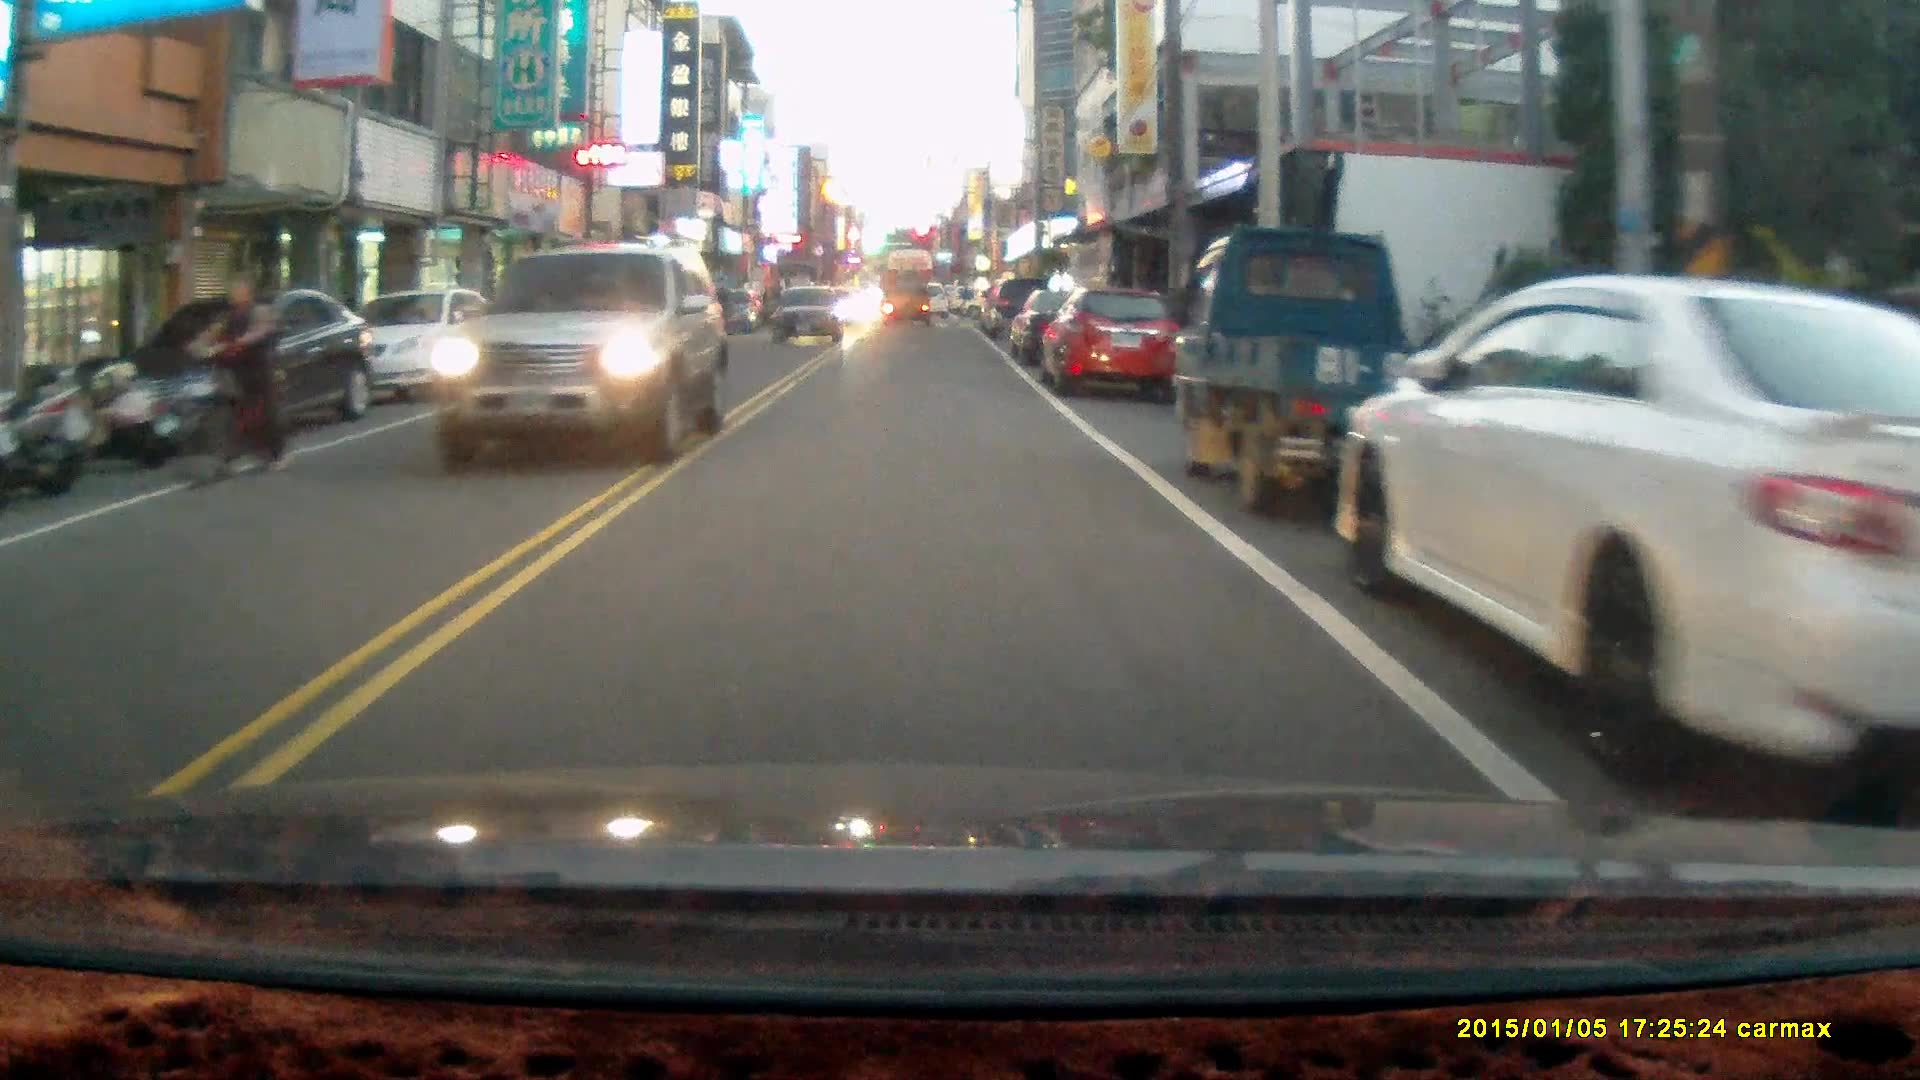rider: (172, 265, 288, 486)
vehicle: (1334, 273, 1920, 794), (1175, 224, 1510, 522), (424, 246, 730, 464), (114, 289, 372, 439), (298, 287, 490, 405), (1045, 287, 1182, 399), (1006, 286, 1126, 375), (773, 284, 845, 348), (879, 268, 933, 332)
